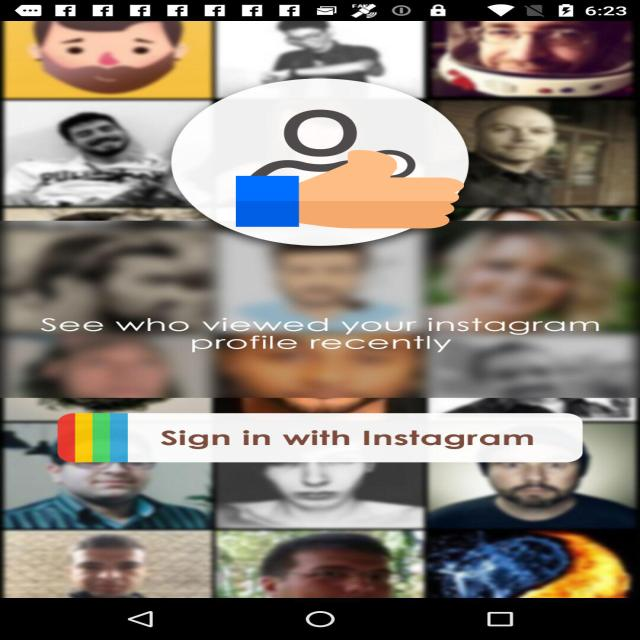privacy zuckering: (236, 148, 464, 230)
